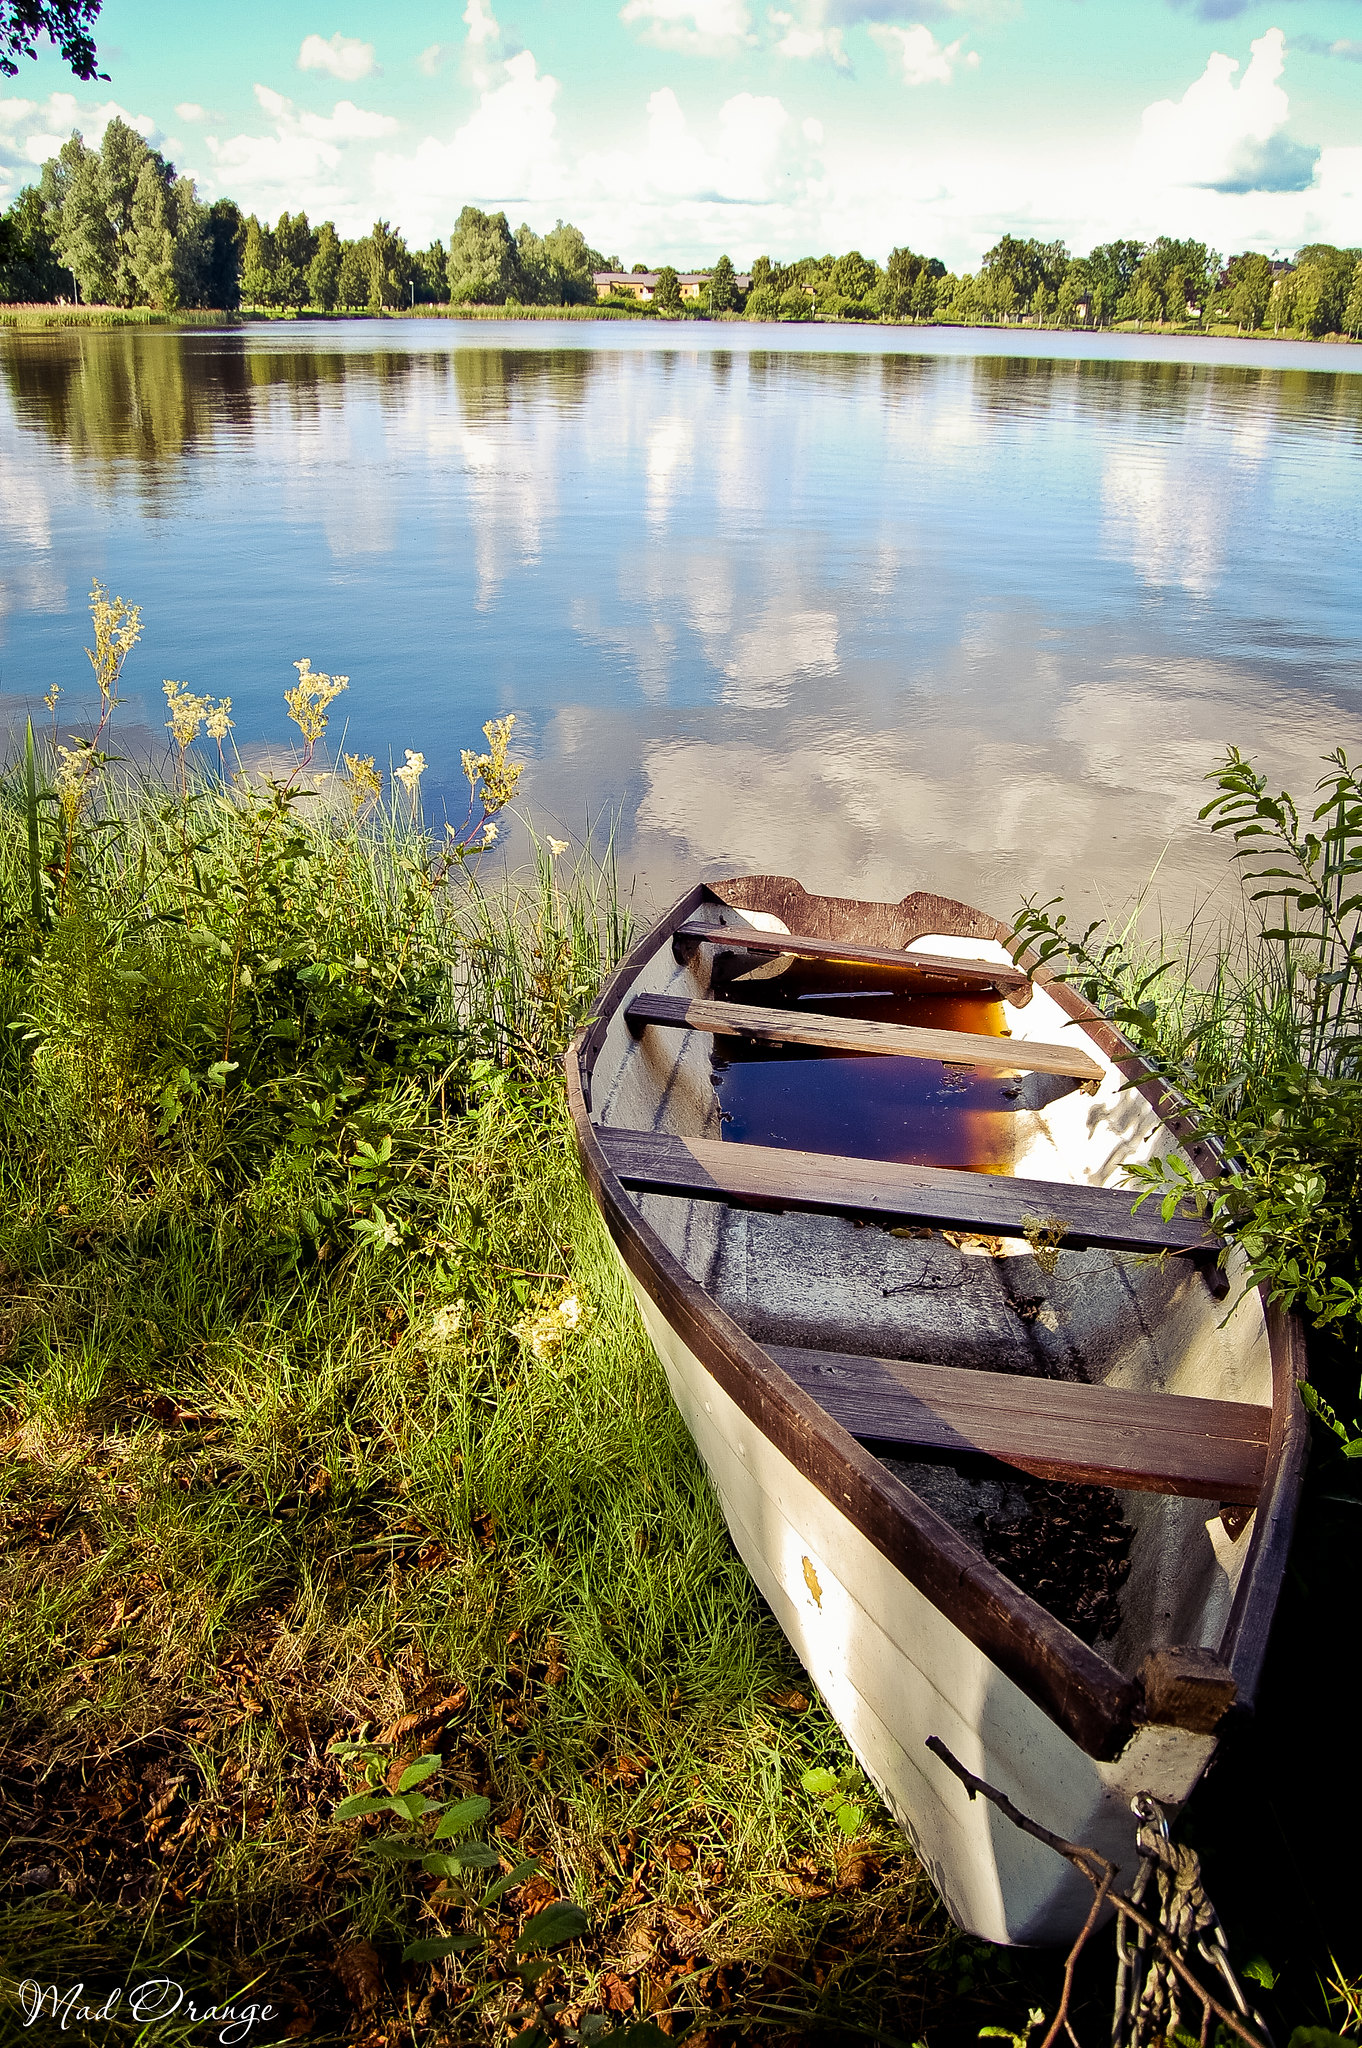boat: (524, 861, 1353, 1936)
